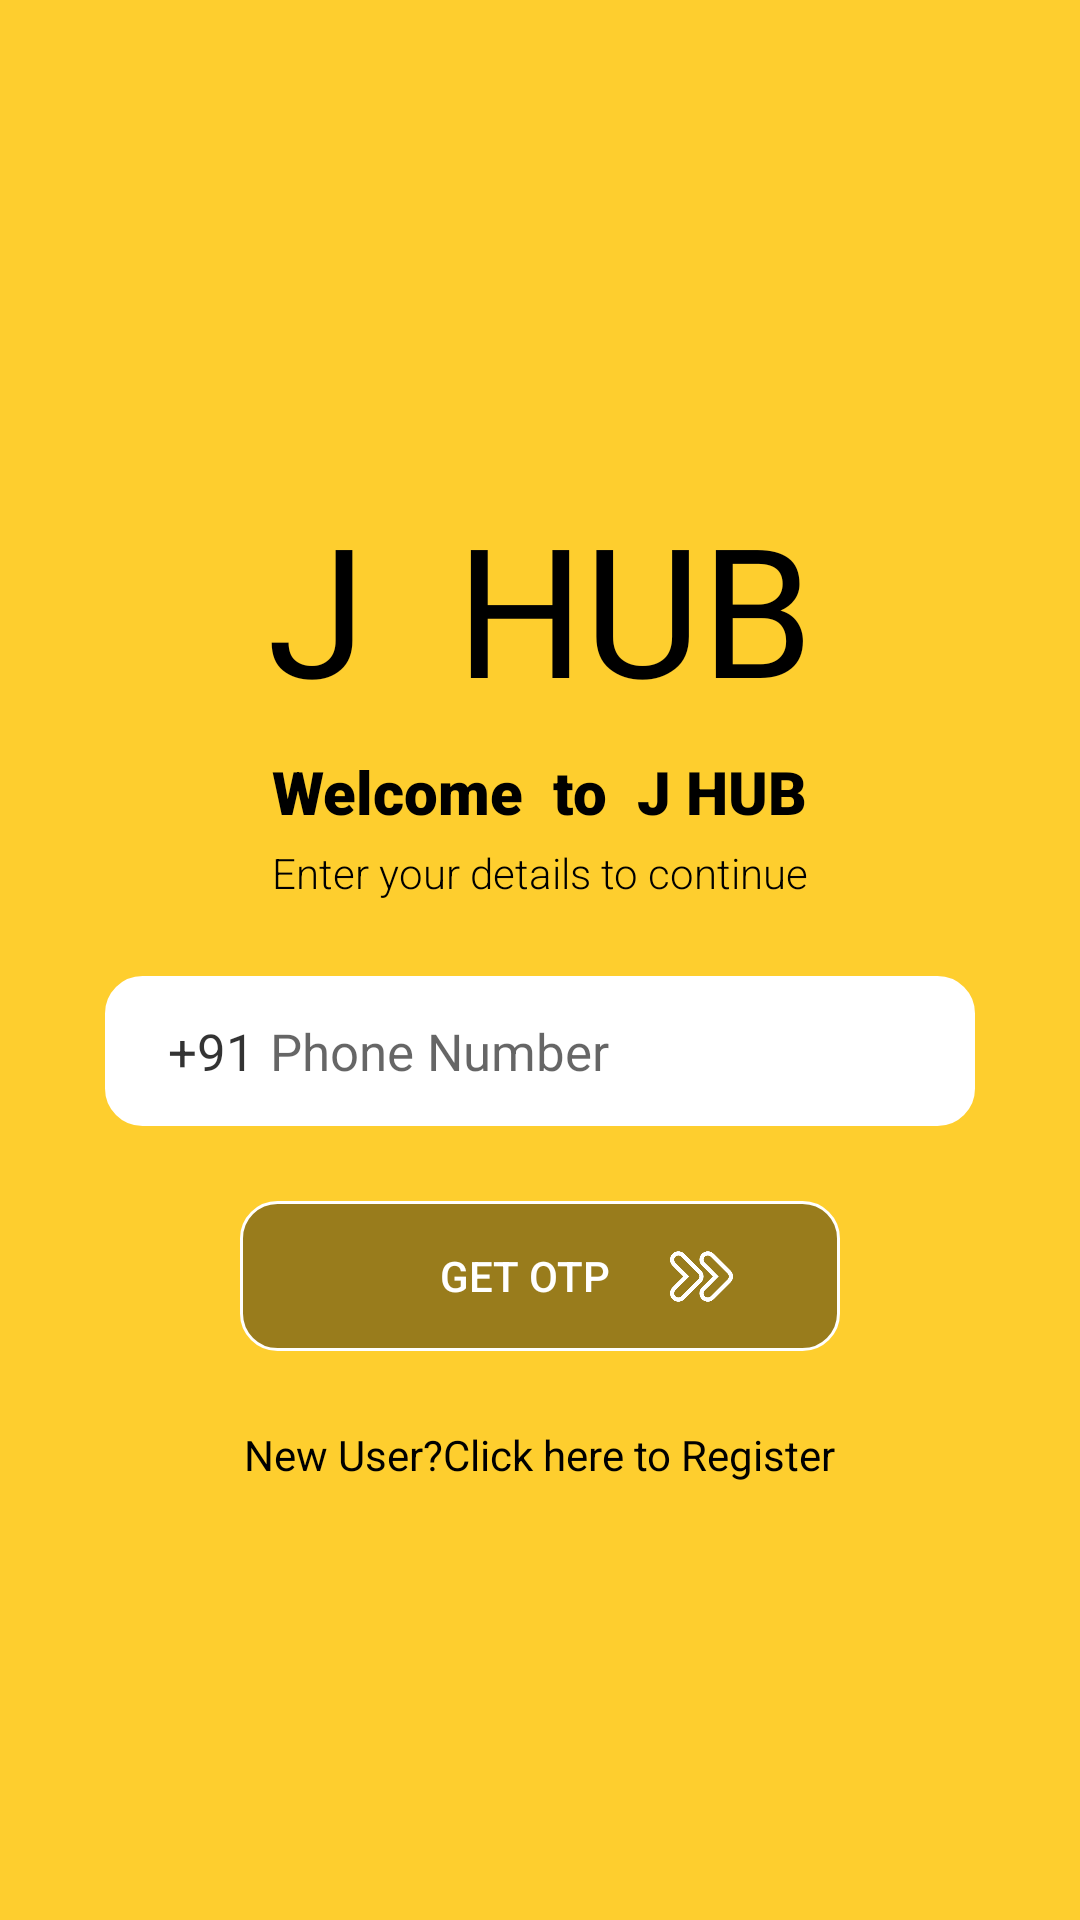

Icons on this 1080 × 1920 Android screen, each with the point to tap as (x=x, y=y):
next: (x=701, y=1276)
